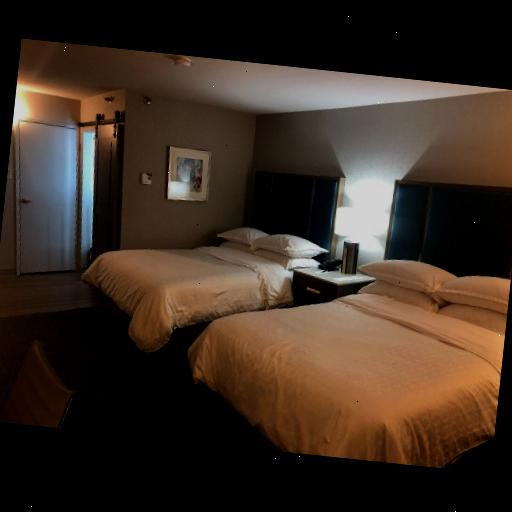clean_bed: (178, 179, 512, 466), (85, 174, 343, 350)
organised_pillow: (356, 254, 509, 336), (213, 223, 318, 272)
